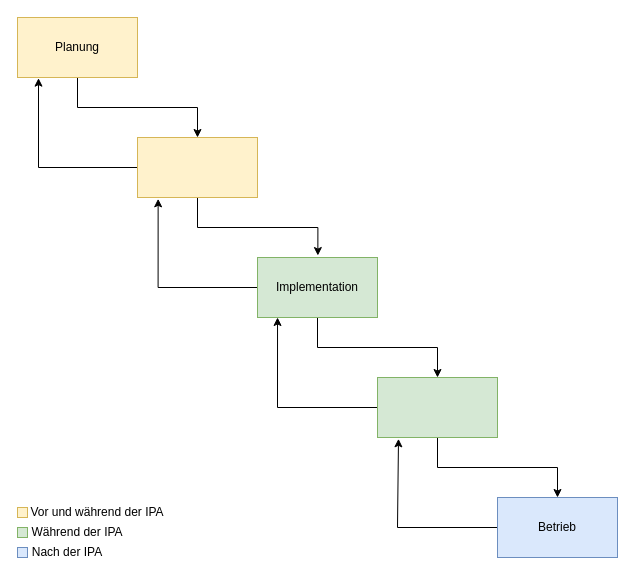
The diagram is 635 pixels wide and 580 high, and some of its shapes have lost their labels. The shapes that lost their labels are listed below. From the top down, each one's centre as x and y in pixels, then its label:
At point (197, 167): "Design".
At point (437, 407): "Testen".
